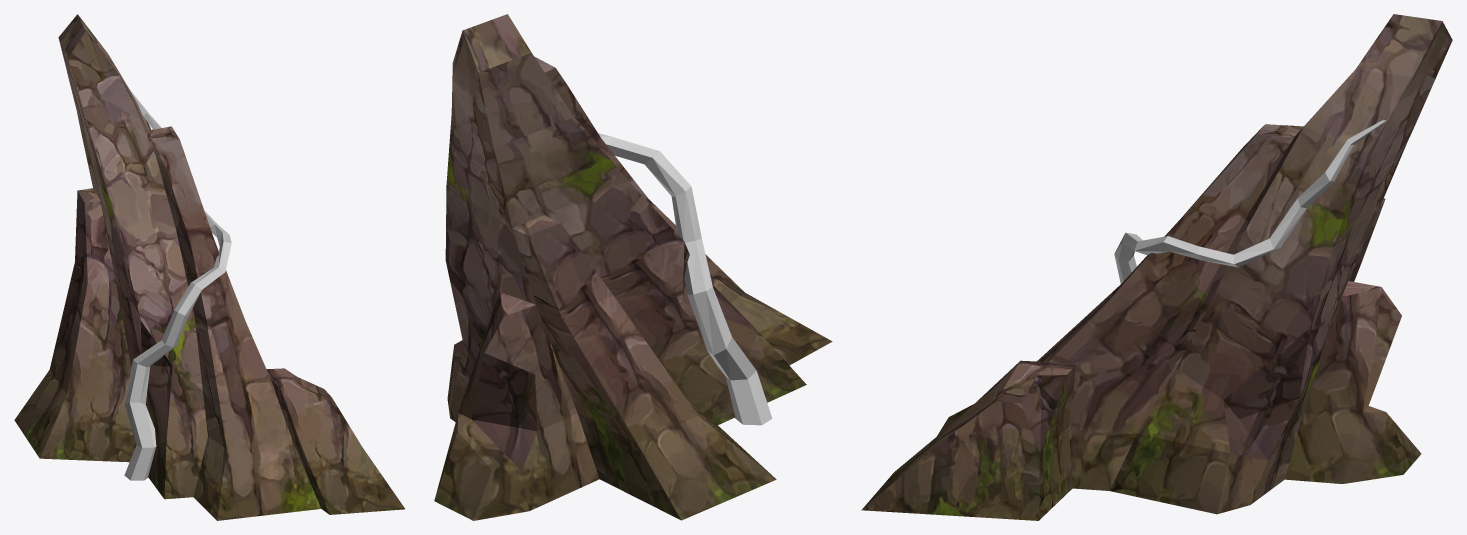
File: LM_CenterPillar03d.FBX
The picture shows the model from 3 angles, left to right: view 1: azimuth 30°, elevation 25°; view 2: azimuth 150°, elevation 25°; view 3: azimuth 270°, elevation 25°; orthographic projection. The views are drawn at different scales.
Parts seen in each view (by area): view 1: LM_CenterPillar03d; view 2: LM_CenterPillar03d; view 3: LM_CenterPillar03d.
Boxes of the visible parts, x1=… form: LM_CenterPillar03d: x1=14, y1=14, x2=404, y2=520; LM_CenterPillar03d: x1=434, y1=14, x2=832, y2=520; LM_CenterPillar03d: x1=861, y1=14, x2=1452, y2=520.
Size of the model in its own units: 890 by 1233 by 1525.
